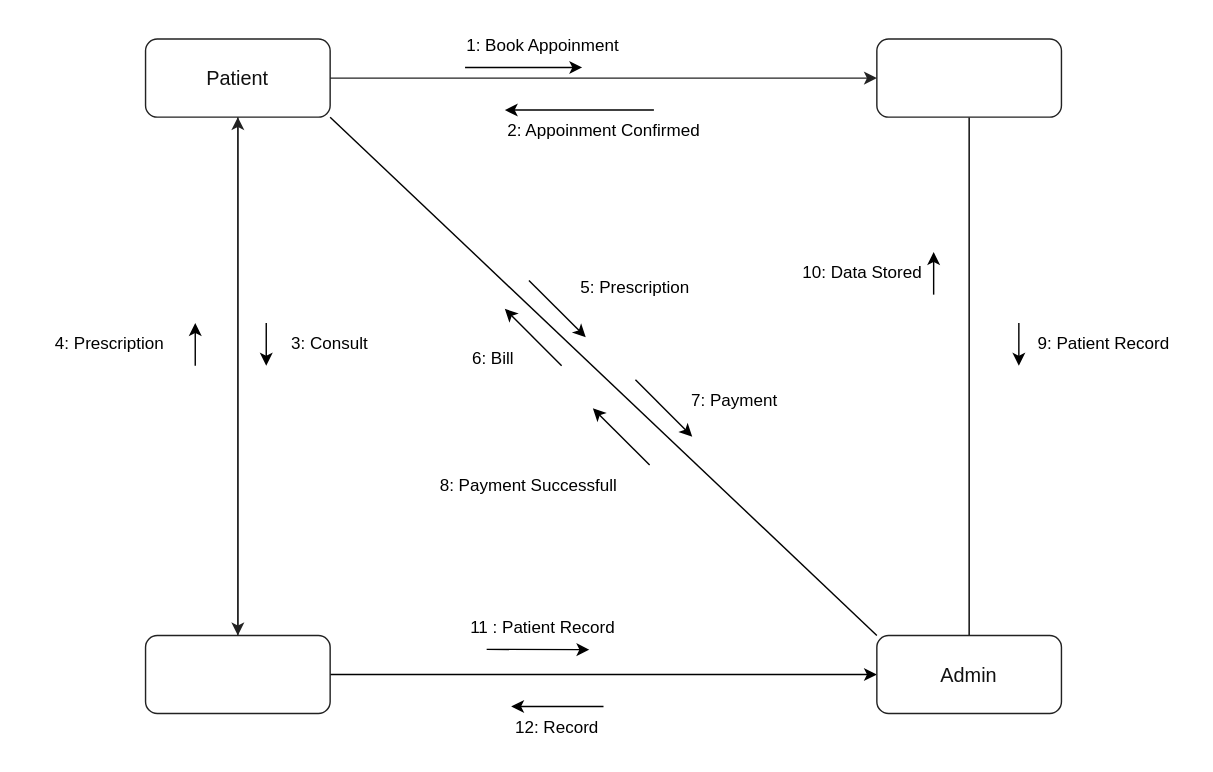
Image size: 1213x772. Some labels were removed from this diagram. Each missing label, with the centre of its shape:
Doctor: [237,674]
Nurse: [968,77]
